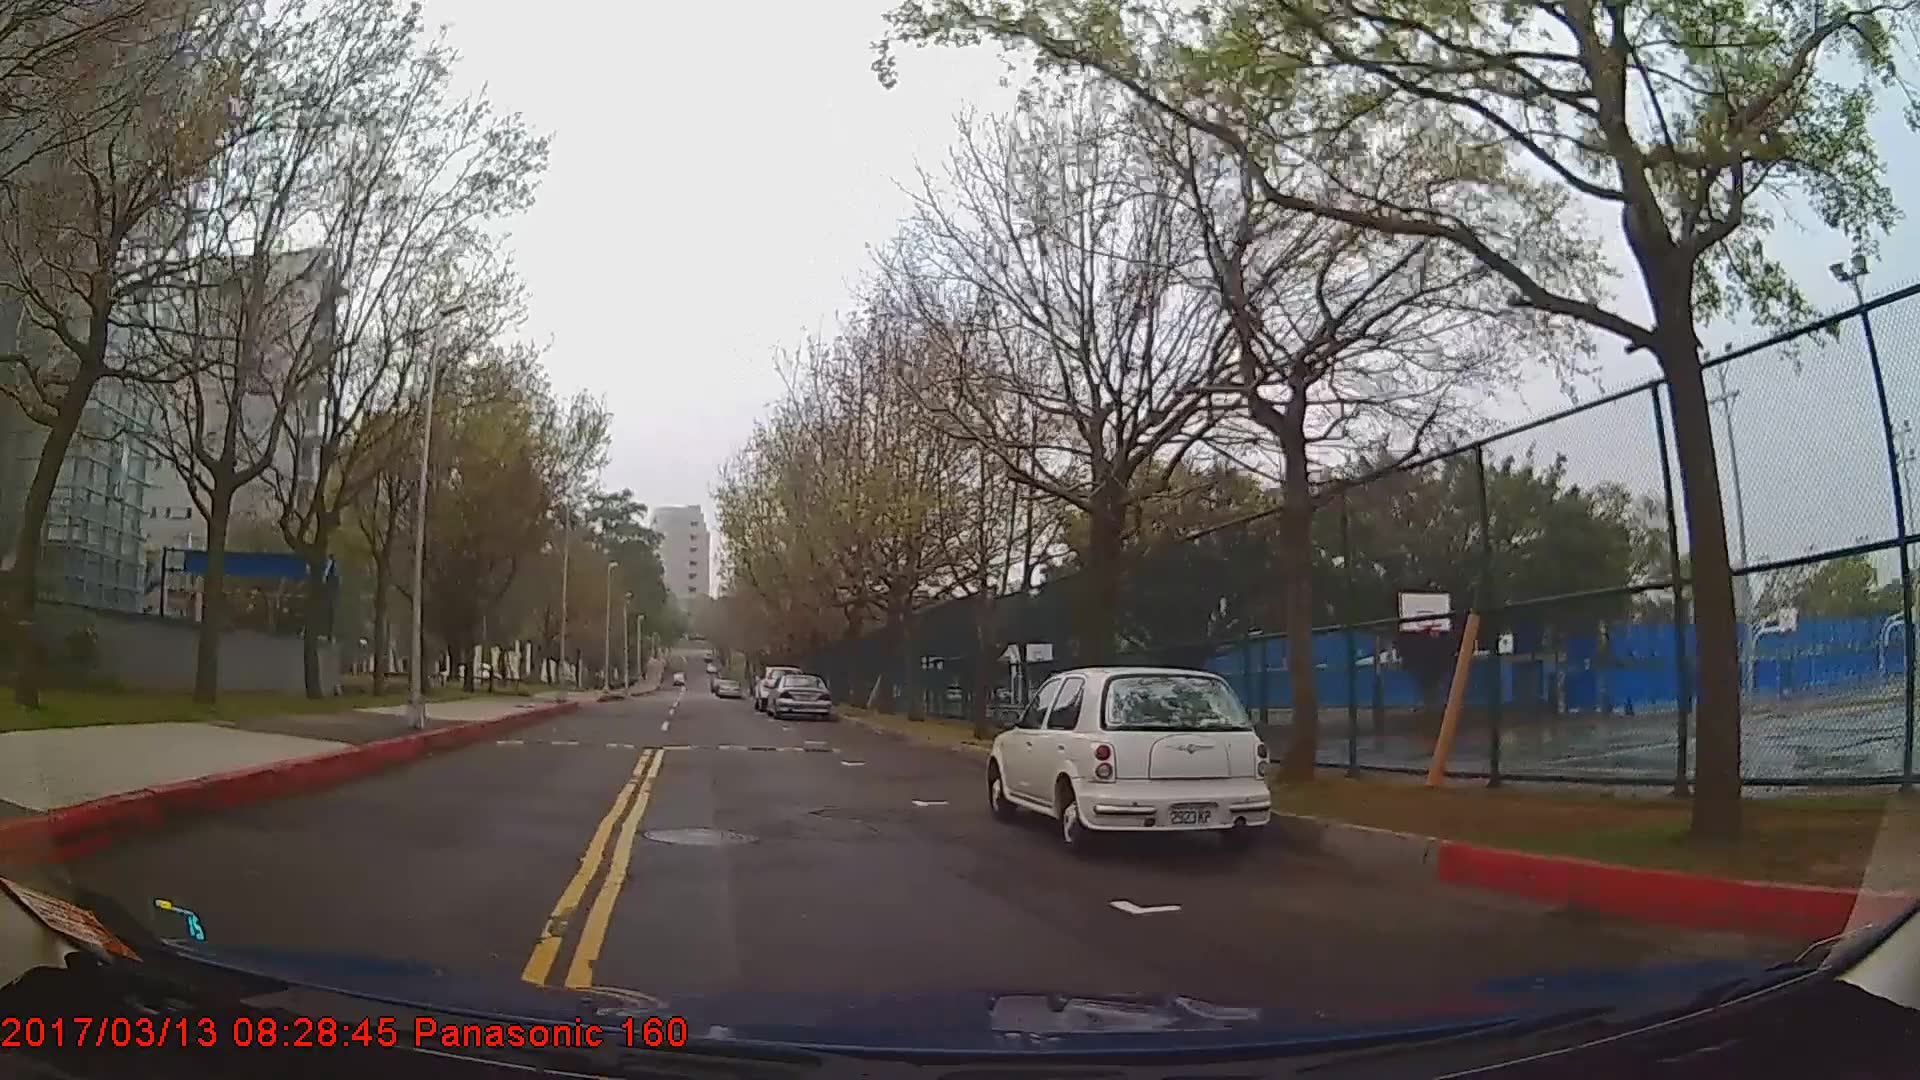vehicle: (982, 666, 1273, 853), (760, 671, 829, 717)
